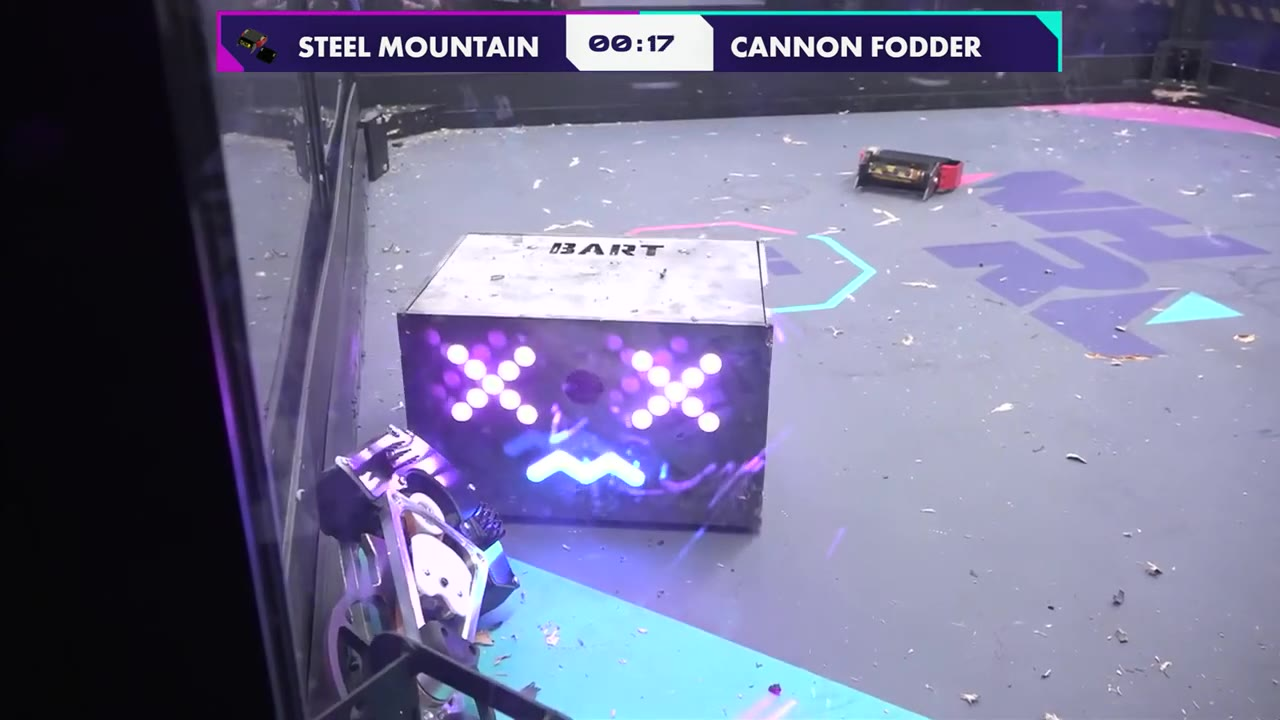combatbot: (314, 425, 522, 720), (852, 145, 967, 200)
housebot: (392, 228, 775, 532)
